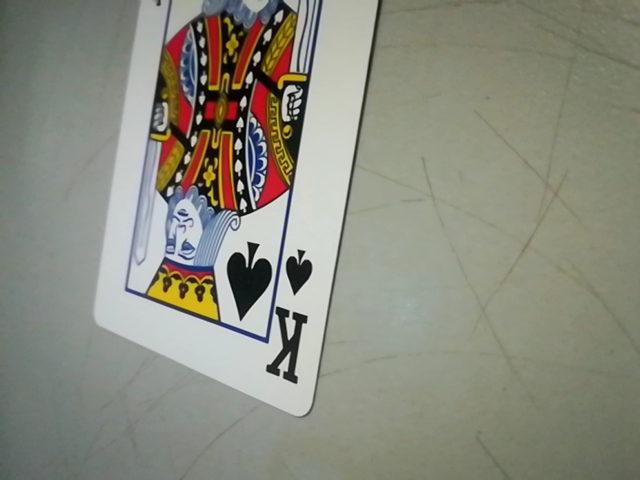ht k: (266, 232, 320, 406)
